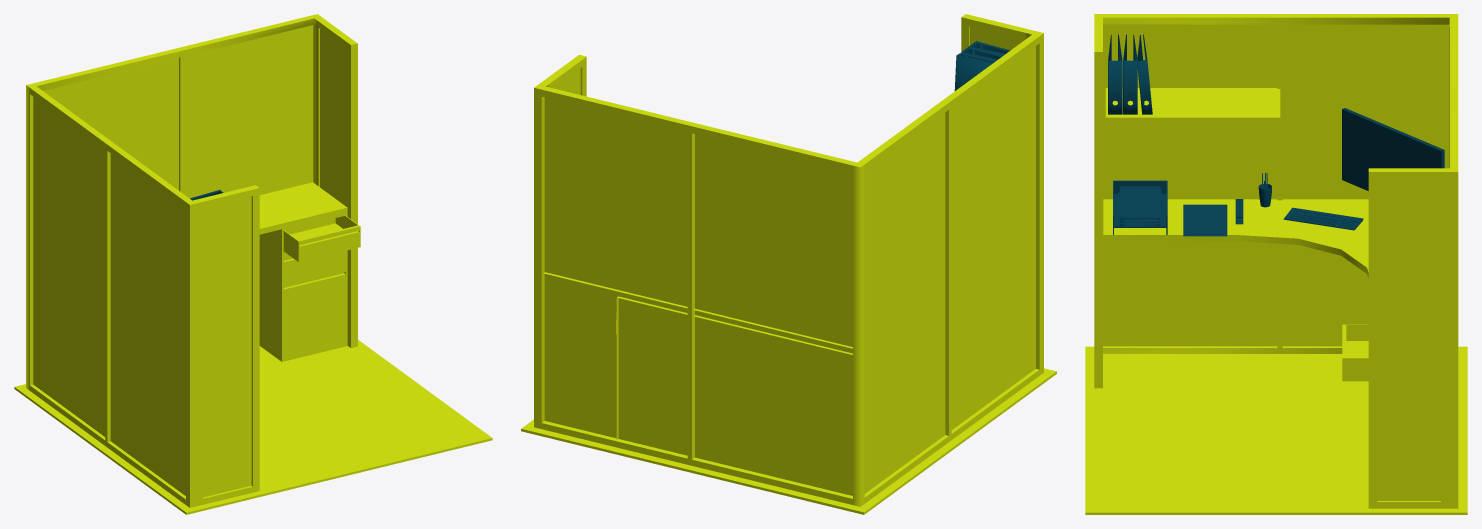
File: SM_Office.FBX
3 renders of one model, left to right at view 1: azimuth 30°, elevation 25°; view 2: azimuth 150°, elevation 25°; view 3: azimuth 270°, elevation 25°, orthographic. The views are drawn at different scales.
Visible parts, largest first — view 1: Object043; view 2: Object043; view 3: Object043.
Boxes of the visible parts, bbox=[...] form: Object043: bbox=[14, 14, 492, 514]; Object043: bbox=[521, 14, 1056, 514]; Object043: bbox=[1085, 14, 1467, 514].
Size of the model in its own units: 77.17 by 73.51 by 75.11.
